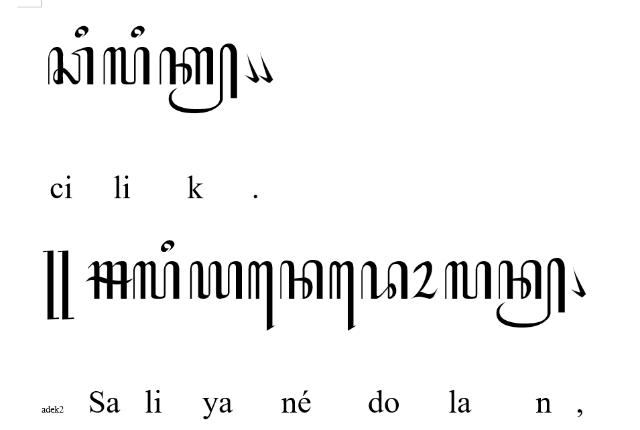-k: (158, 42, 238, 114)
-n: (494, 257, 566, 329)
S: (86, 261, 134, 299)
adeg2: (42, 250, 74, 320)
c: (48, 45, 94, 84)
d: (359, 261, 408, 300)
e1: (328, 261, 356, 333), (249, 261, 275, 332)
i: (130, 26, 146, 38), (75, 25, 89, 38), (160, 240, 174, 252)
kom: (244, 52, 260, 84), (257, 52, 273, 84), (570, 266, 586, 298)
l: (444, 260, 492, 300), (102, 47, 150, 86), (133, 261, 181, 300)
n: (279, 261, 323, 300)
o: (412, 260, 438, 300)
y: (190, 261, 242, 299)
